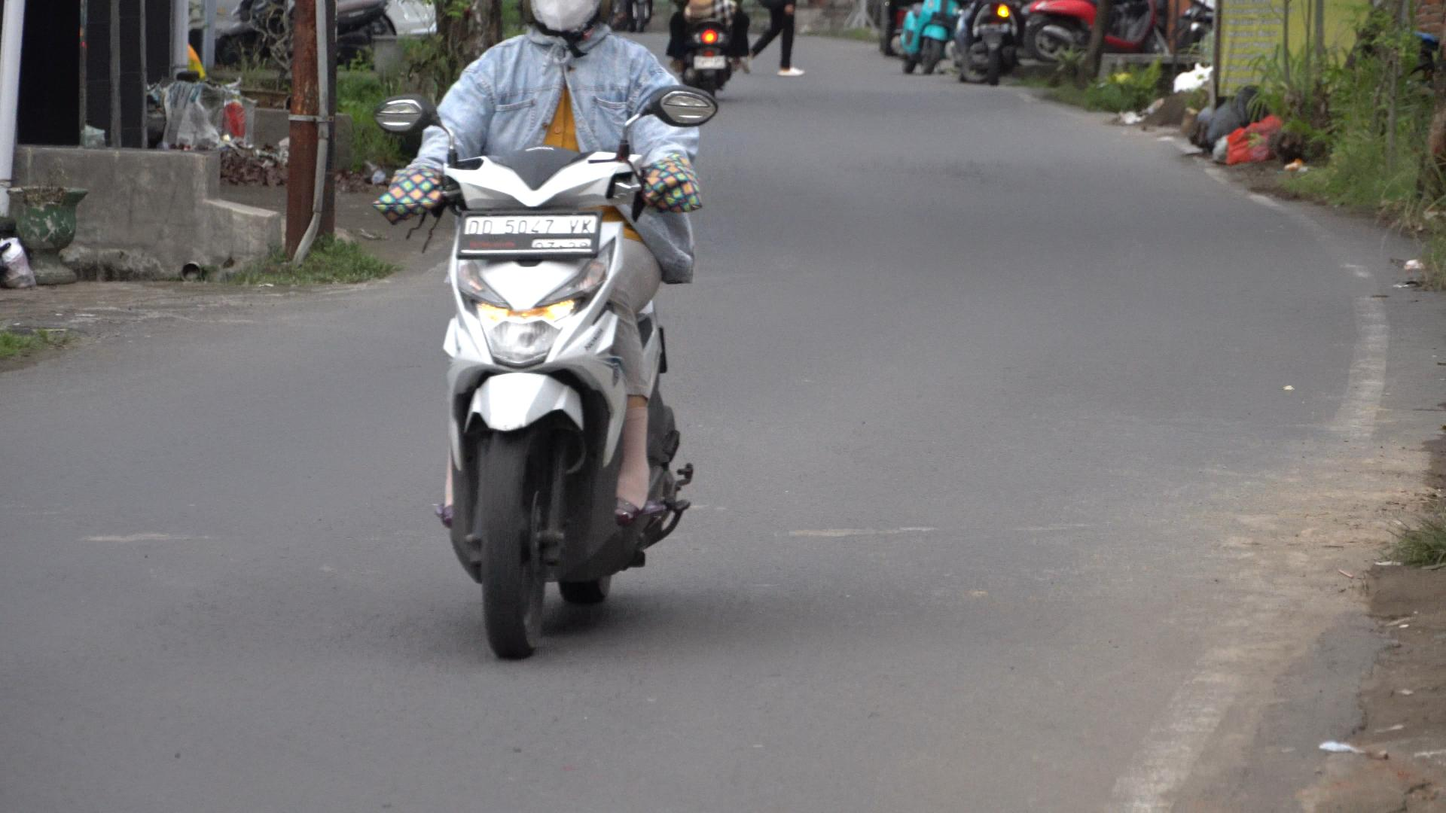number-plate: (459, 212, 600, 259)
